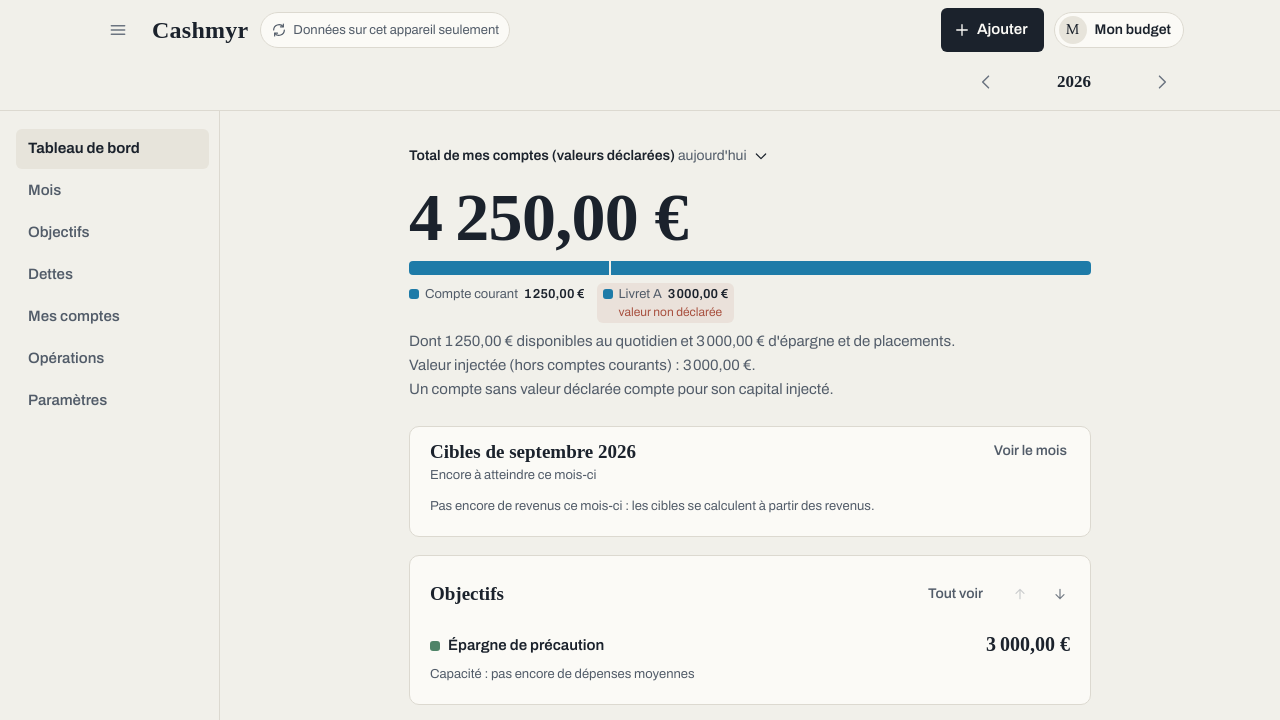
it: menu latéral (grand écran) › ☰ replie le menu, choix propre à l'appareil, jamais synchronisé
Click the button named "Masquer le menu": (118, 30) [96,8,140,52]
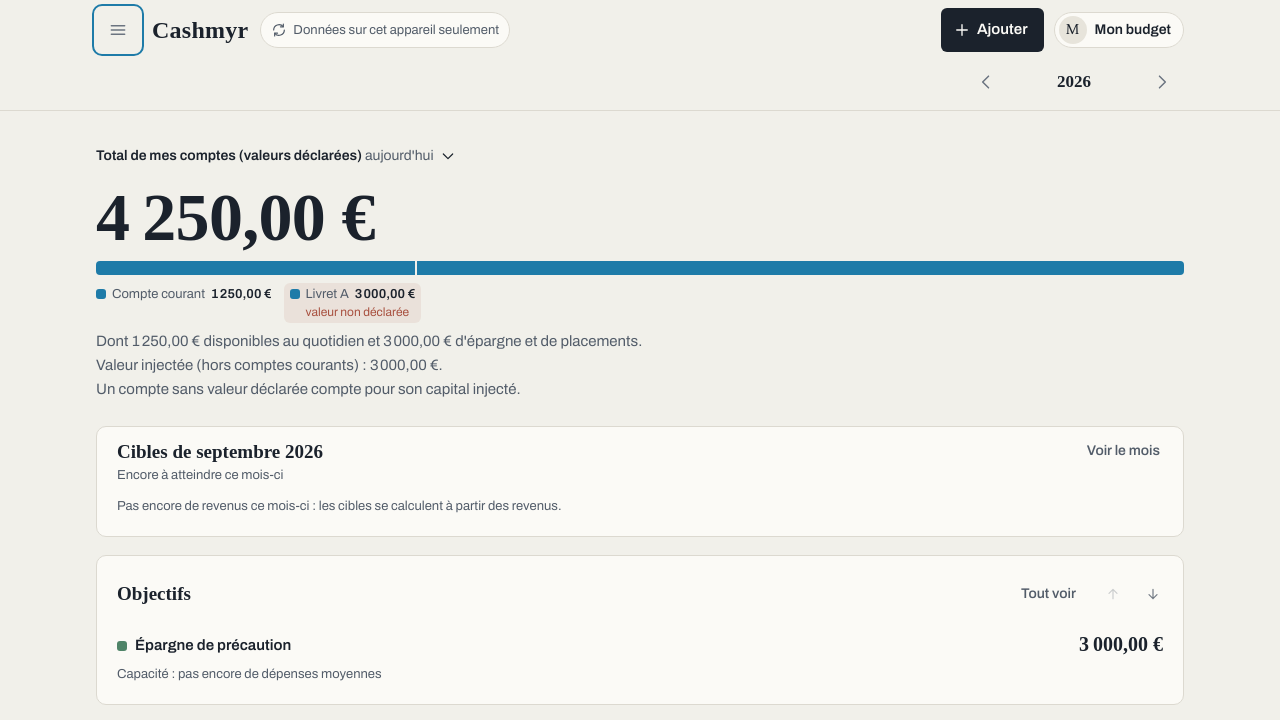
expect the navigation bar "Sections" is gone: met
Click the button named "Afficher le menu": (118, 30) [96,8,140,52]
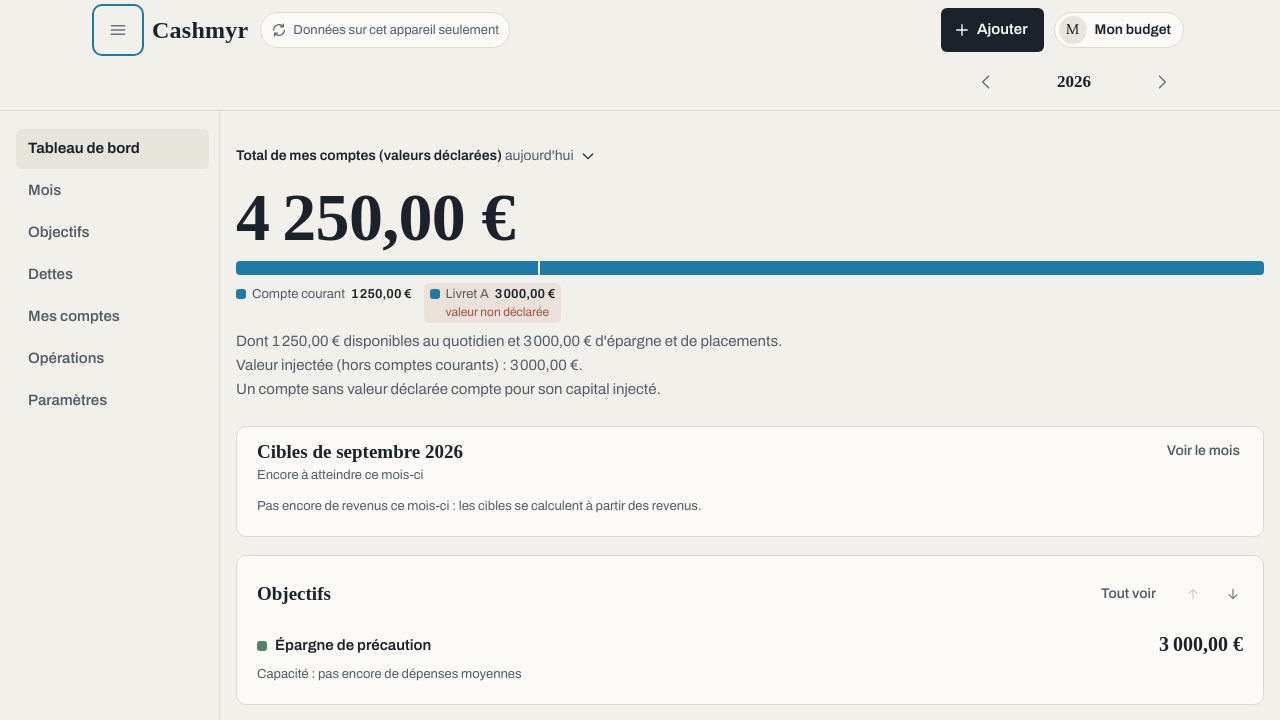
expect the navigation bar named "Sections" is shown: met, box [0,111,220,719]
